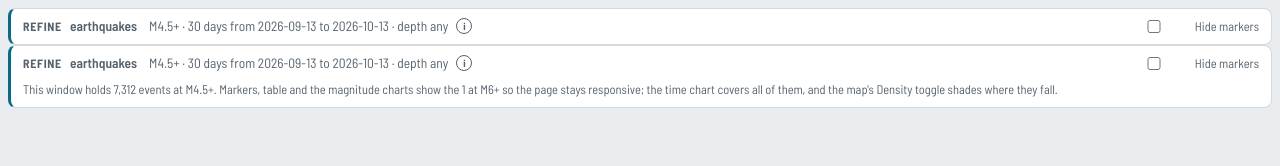
FilterBar › explains a raised floor under the inputs
Expected: the text with class "fnote" shows "This window holds 7,312 events at M4.5+. Markers, table and the magnitude charts show the 1 at M6+ so the page stays responsive; the time chart covers all of th", [23,81,1058,97]
Click the 2nd button with class "rhead".
click(248, 63)  # box [23,54,472,71]
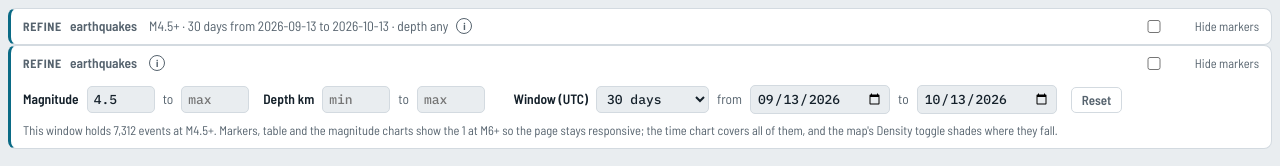
Result: the number field named "Minimum magnitude" holds "4.5" at [87,86,155,113]
